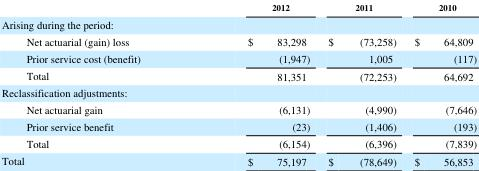table: (1, 1, 476, 167)
table column: (1, 1, 193, 167), (193, 1, 318, 167), (318, 1, 404, 167), (404, 1, 476, 167)
table column header: (1, 1, 476, 15)
table projected row header: (1, 15, 476, 32), (1, 83, 476, 100)
table row: (1, 133, 476, 151), (1, 15, 476, 32), (1, 32, 476, 49), (1, 49, 476, 66), (1, 66, 476, 83), (1, 83, 476, 100), (1, 100, 476, 117), (1, 117, 476, 133), (1, 151, 476, 167), (1, 1, 476, 15)
